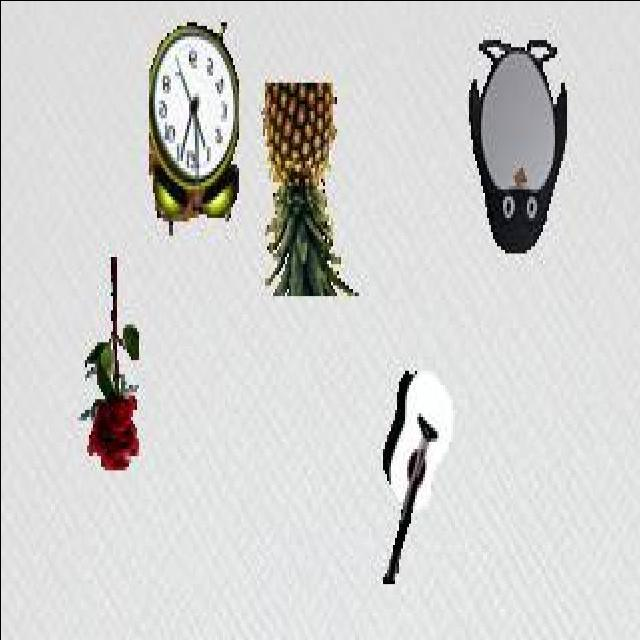Other Objects: (148, 19, 238, 236), (77, 257, 139, 470)
